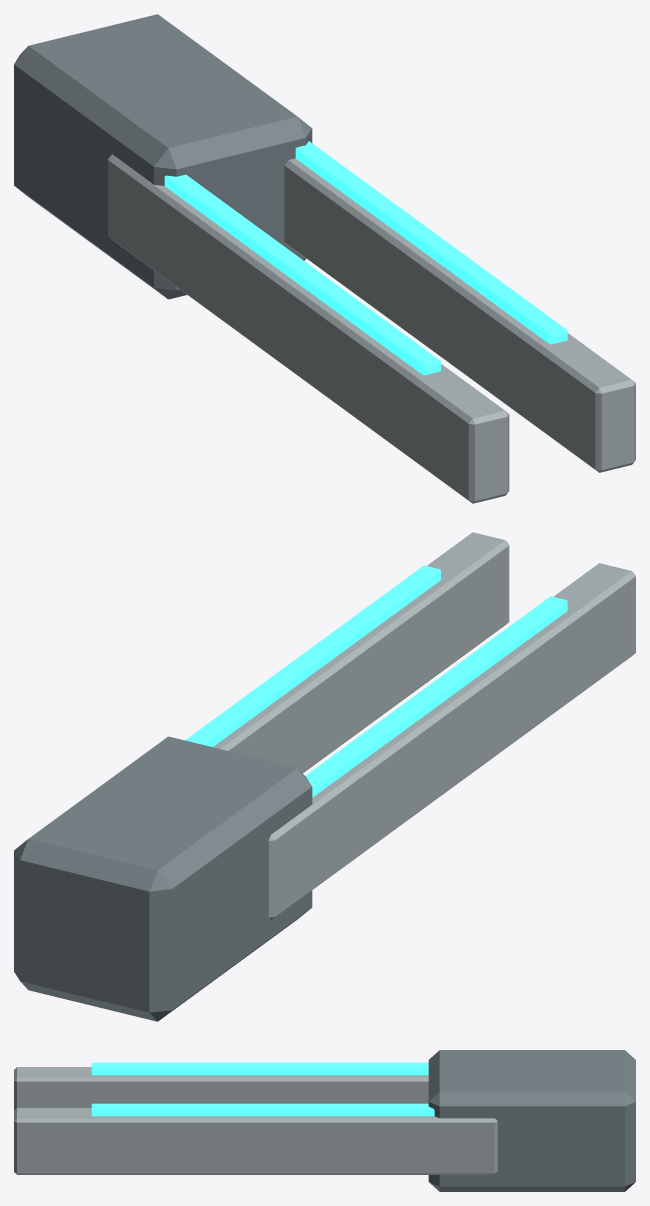
The model's file is WeaponRail.fbx.
3 renders of one model, top to bottom at view 1: azimuth 30°, elevation 25°; view 2: azimuth 150°, elevation 25°; view 3: azimuth 270°, elevation 25°, orthographic. The views are drawn at different scales.
Parts seen in each view (by area): view 1: Rail capacitor, Acceleration rail, Acceleration rail.001, Rail luminous slot, Rail luminous slot.001; view 2: Rail capacitor, Acceleration rail, Acceleration rail.001, Rail luminous slot, Rail luminous slot.001; view 3: Acceleration rail.001, Rail capacitor, Acceleration rail, Rail luminous slot.001, Rail luminous slot.
Boxes of the visible parts, x1,y1,x2,y2 form: Rail capacitor: [14, 14, 312, 299]; Acceleration rail: [108, 154, 509, 503]; Acceleration rail.001: [284, 158, 635, 472]; Rail luminous slot: [164, 174, 440, 375]; Rail luminous slot.001: [295, 141, 567, 344]; Rail capacitor: [14, 736, 312, 1021]; Acceleration rail: [268, 563, 635, 919]; Acceleration rail.001: [213, 532, 509, 772]; Rail luminous slot: [305, 596, 567, 797]; Rail luminous slot.001: [185, 565, 440, 746]; Acceleration rail.001: [14, 1108, 497, 1174]; Rail capacitor: [428, 1050, 635, 1191]; Acceleration rail: [14, 1067, 428, 1110]; Rail luminous slot.001: [91, 1103, 434, 1116]; Rail luminous slot: [91, 1062, 428, 1075].
Size of the model in its own units: 0.37 by 0.32 by 1.8.
